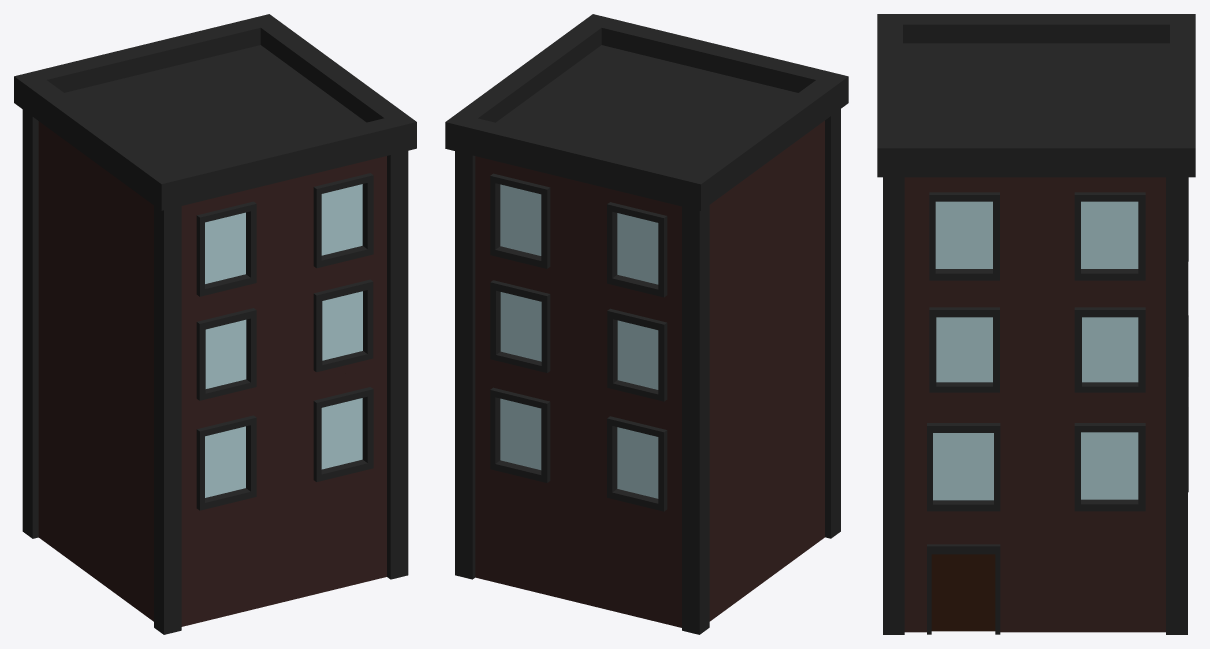
The model's file is house_tall_U001.fbx.
The picture shows the model from 3 angles, left to right: view 1: azimuth 30°, elevation 25°; view 2: azimuth 150°, elevation 25°; view 3: azimuth 270°, elevation 25°; orthographic projection. The views are drawn at different scales.
Parts seen in each view (by area): view 1: Plane.012; view 2: Plane.012; view 3: Plane.012.
Boxes of the visible parts, x1,y1,x2,y2 form: Plane.012: (14, 14, 416, 634); Plane.012: (445, 14, 848, 634); Plane.012: (877, 14, 1195, 634).
Size of the model in its own units: 875 by 1485 by 875.
